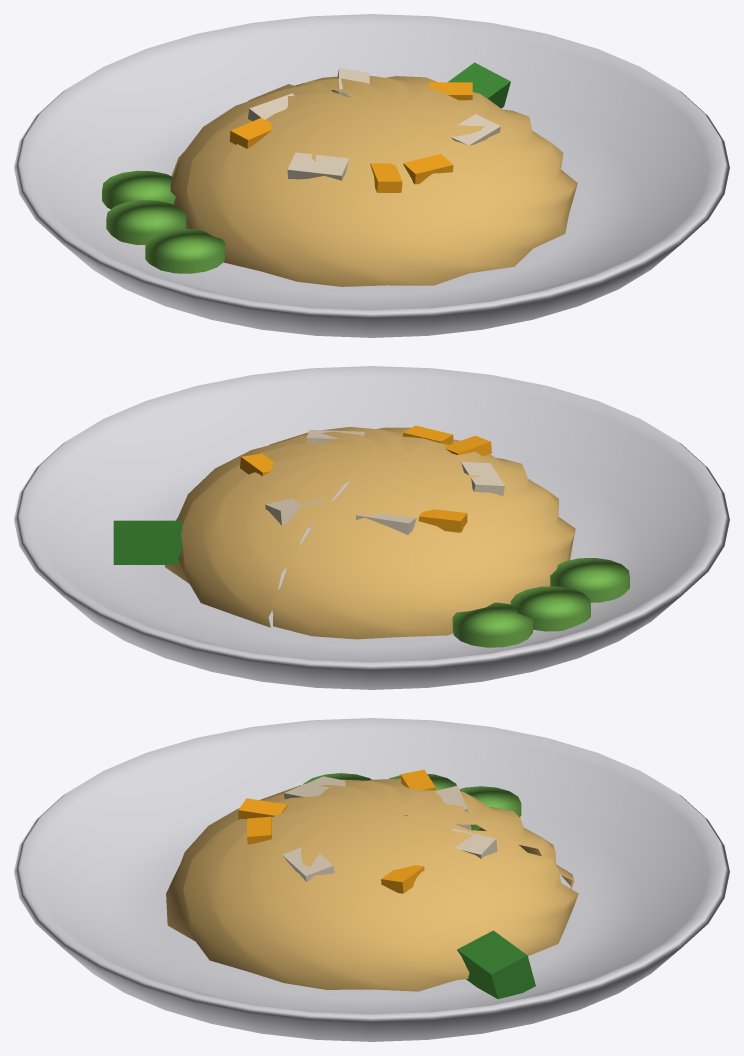
File: Dish_03_ChickenFriedRice.obj
The picture shows the model from 3 angles, top to bottom: view 1: azimuth 30°, elevation 25°; view 2: azimuth 150°, elevation 25°; view 3: azimuth 270°, elevation 25°; orthographic projection.
Visible parts, largest first — view 1: Mat_FoodPlate, Mat_FriedRice, Mat_Vegetables, Mat_CookedChicken, Mat_EggYolk, Mat_Broccoli; view 2: Mat_FoodPlate, Mat_FriedRice, Mat_Vegetables, Mat_Broccoli, Mat_CookedChicken, Mat_EggYolk; view 3: Mat_FoodPlate, Mat_FriedRice, Mat_Broccoli, Mat_CookedChicken, Mat_EggYolk, Mat_Vegetables.
Part boxes in pixels (x1,y1,x2,y2): Mat_FoodPlate: [14, 14, 729, 337]; Mat_FriedRice: [170, 75, 577, 286]; Mat_Vegetables: [102, 170, 225, 273]; Mat_CookedChicken: [248, 68, 500, 180]; Mat_EggYolk: [229, 82, 472, 192]; Mat_Broccoli: [448, 62, 510, 108]; Mat_FoodPlate: [14, 366, 729, 689]; Mat_FriedRice: [164, 427, 575, 639]; Mat_Vegetables: [452, 558, 629, 647]; Mat_Broccoli: [113, 520, 182, 564]; Mat_CookedChicken: [265, 429, 504, 534]; Mat_EggYolk: [240, 425, 491, 532]; Mat_FoodPlate: [14, 718, 729, 1041]; Mat_FriedRice: [166, 778, 578, 991]; Mat_Broccoli: [457, 930, 535, 999]; Mat_CookedChicken: [282, 776, 497, 881]; Mat_EggYolk: [238, 769, 435, 893]; Mat_Vegetables: [303, 773, 521, 830].
Size of the model in its own units: 0.23 by 0.0392 by 0.23.
